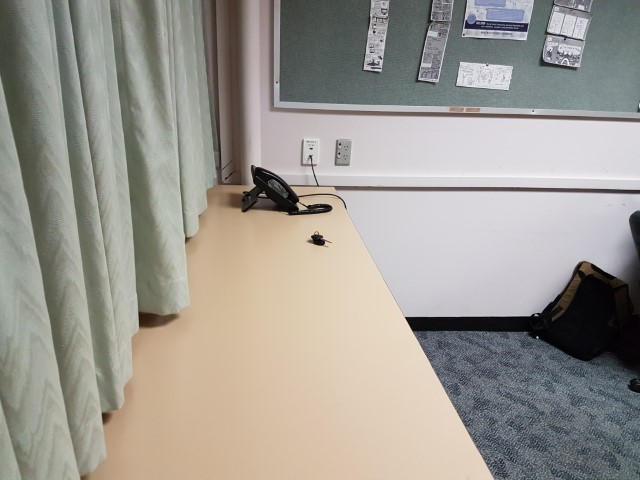key: (310, 232, 332, 244)
